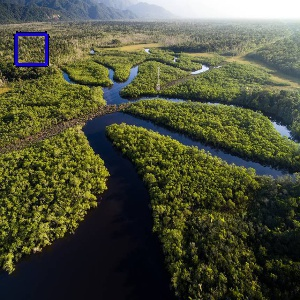square: (12, 30, 50, 68)
